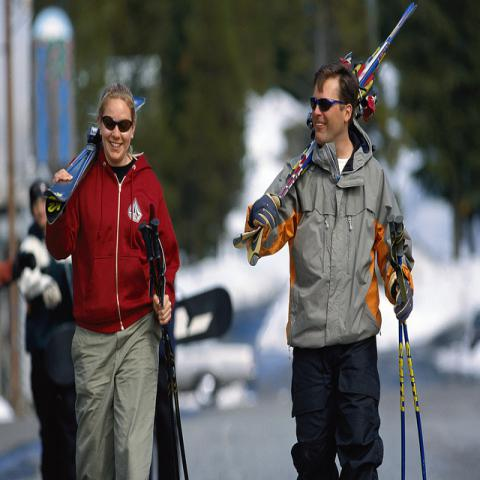car: (173, 339, 256, 409)
